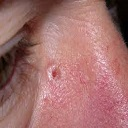Carcinoma: (43, 64, 65, 87)
